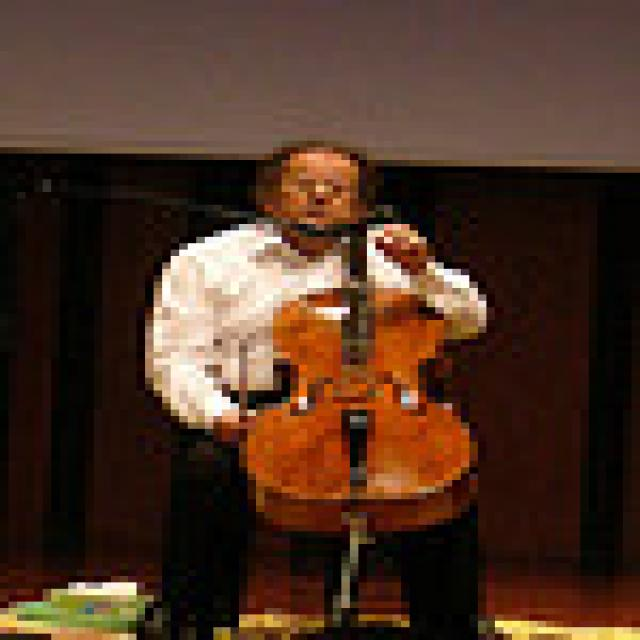cello: (241, 171, 495, 533)
